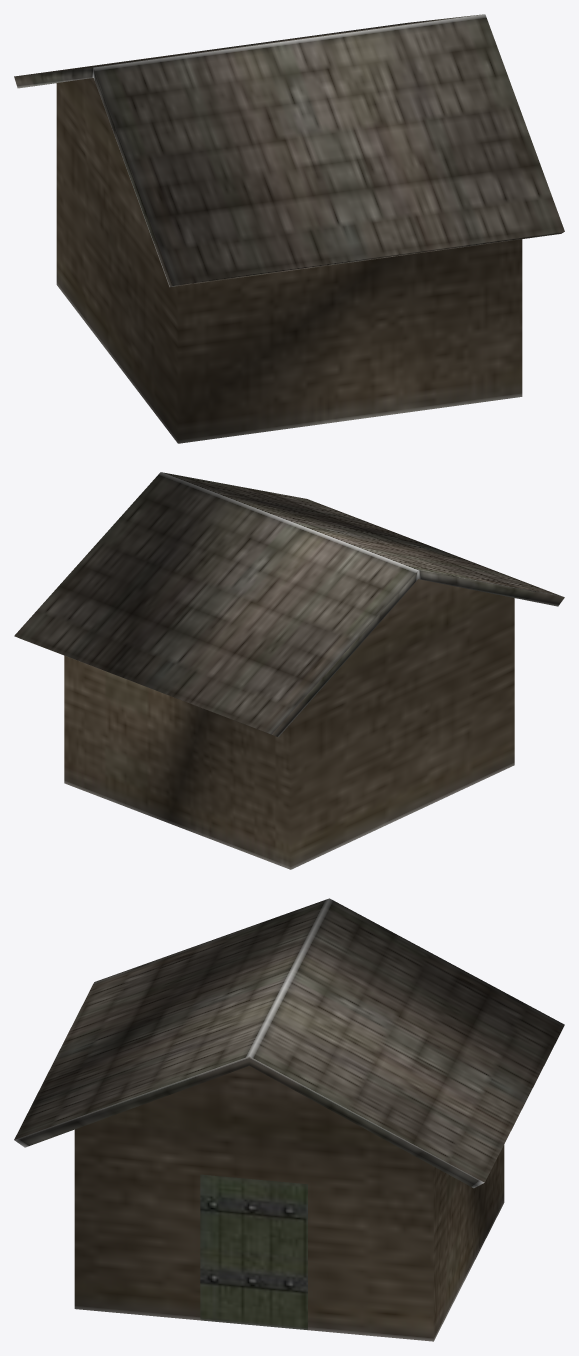
The model's file is pastvina_domek3.fbx.
3 views of the same model, one above another, from view 1: azimuth 30°, elevation 25°; view 2: azimuth 150°, elevation 25°; view 3: azimuth 270°, elevation 25° (orthographic). The views are drawn at different scales.
Visible parts, largest first — view 1: Do_Strecha3, Do_Steny3; view 2: Do_Steny3, Do_Strecha3; view 3: Do_Strecha3, Do_Steny3, Do_Dvere3.
Part boxes in pixels (bbox=[...]): Do_Strecha3: bbox=[14, 14, 564, 287]; Do_Steny3: bbox=[56, 78, 522, 443]; Do_Steny3: bbox=[64, 579, 514, 869]; Do_Strecha3: bbox=[14, 472, 564, 737]; Do_Strecha3: bbox=[14, 898, 564, 1188]; Do_Steny3: bbox=[74, 1066, 504, 1341]; Do_Dvere3: bbox=[200, 1174, 307, 1330].
Bounding box in the file's own units: 2.41 × 1.56 × 2.79.
Materials: 1 (1 with a texture image).
